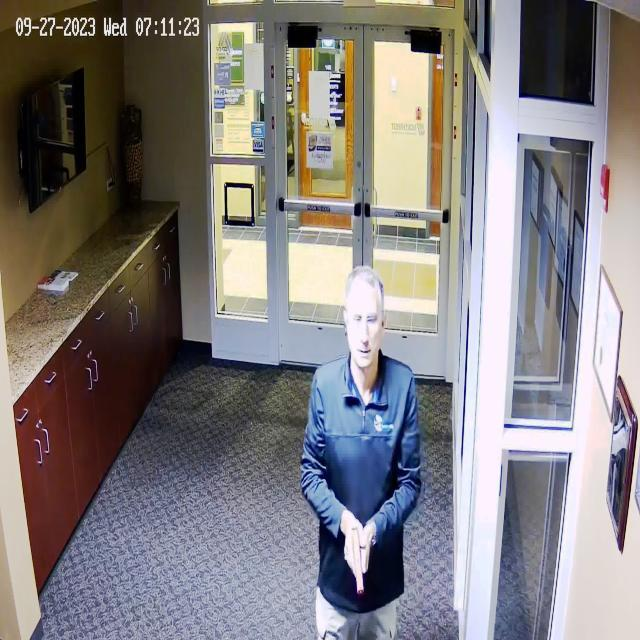Gun: (337, 525, 389, 599)
